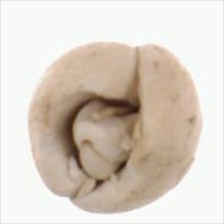L3: (54, 90, 143, 201)
L4: (28, 42, 202, 214)
